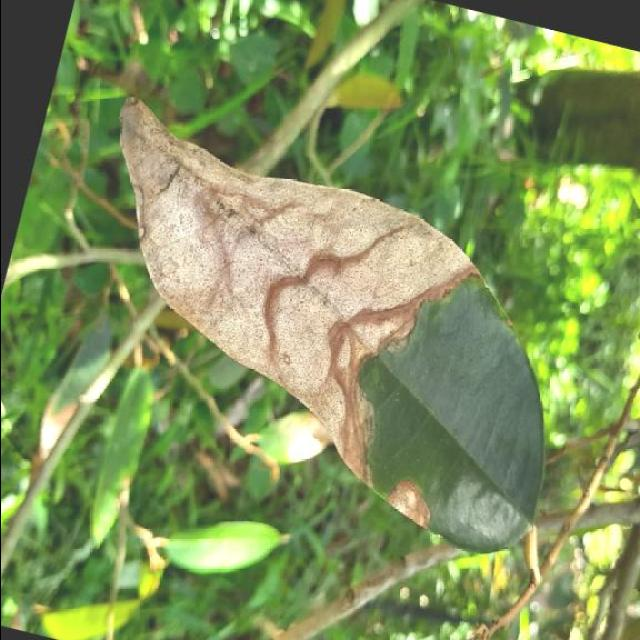Leaf Blight: (32, 82, 622, 574)
